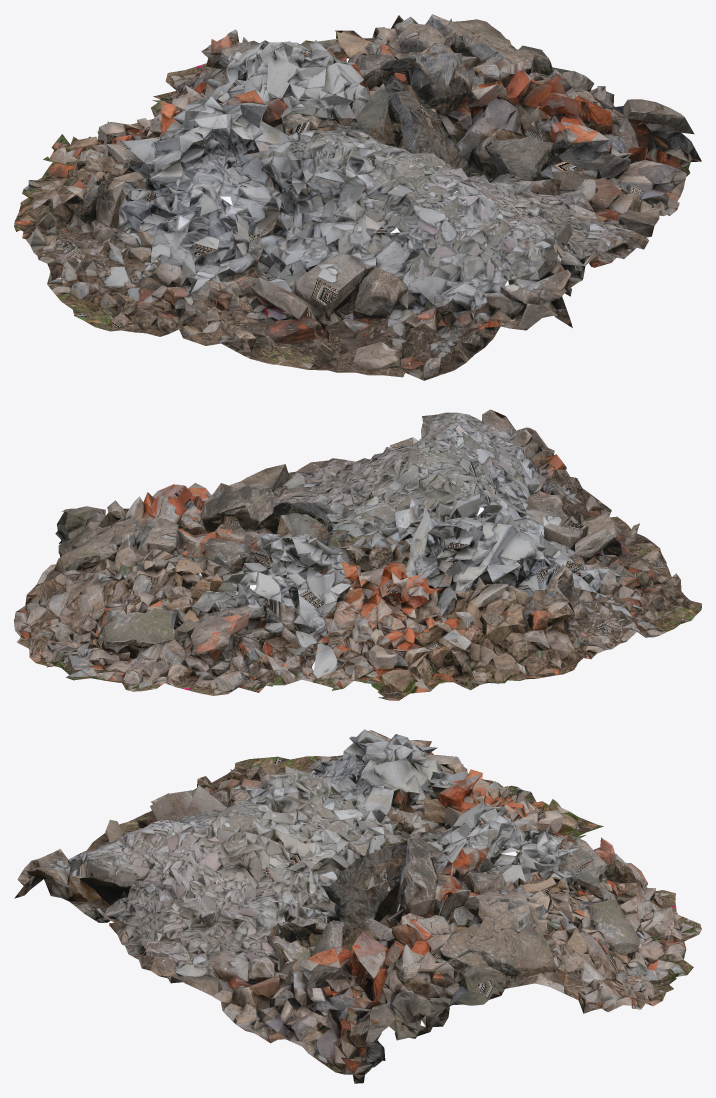
File: debris2.glb
The picture shows the model from 3 angles, top to bottom: view 1: azimuth 30°, elevation 25°; view 2: azimuth 150°, elevation 25°; view 3: azimuth 270°, elevation 25°; orthographic projection. The views are drawn at different scales.
Parts seen in each view (by area): view 1: Model_material0_0; view 2: Model_material0_0; view 3: Model_material0_0.
Part boxes in pixels (x1,y1,x2,y2): Model_material0_0: (14,14,701,380); Model_material0_0: (14,409,701,700); Model_material0_0: (14,729,701,1083).
Bounding box in the file's own units: 2.56 × 0.5709 × 2.56.
Materials: 2 (2 with a texture image).
